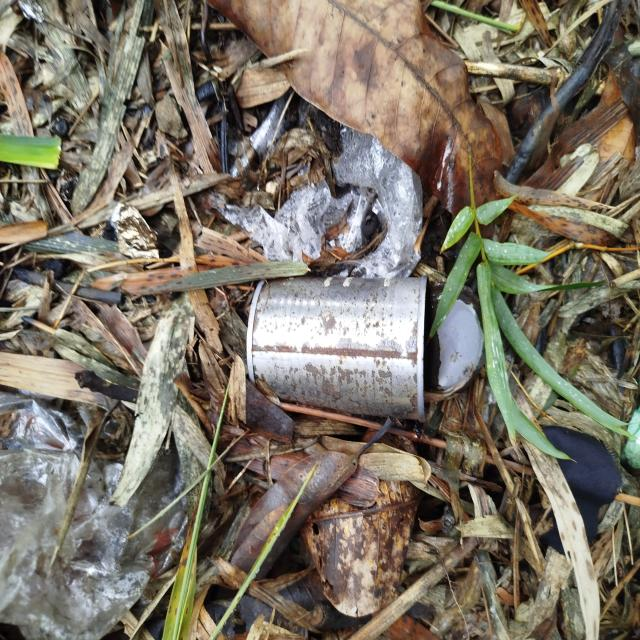metal: (238, 264, 442, 439)
